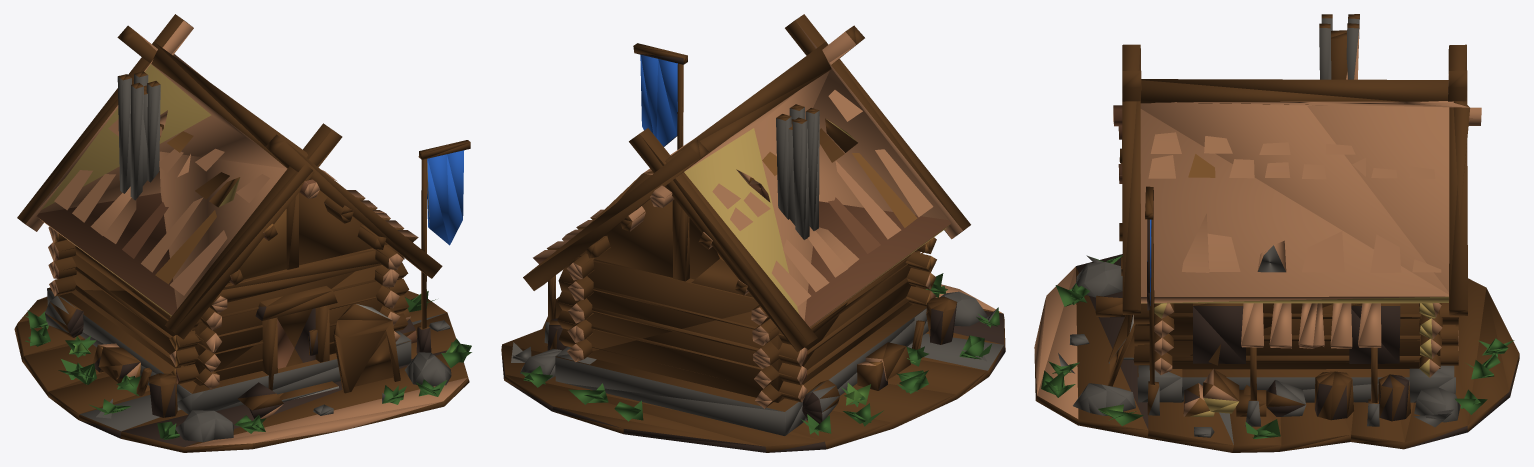
Rendered from building.warden_lodge.glb.
The picture shows the model from 3 angles, left to right: view 1: azimuth 30°, elevation 25°; view 2: azimuth 150°, elevation 25°; view 3: azimuth 270°, elevation 25°; orthographic projection. The views are drawn at different scales.
Visible parts, largest first — view 1: asset; view 2: asset; view 3: asset.
Part boxes in pixels (x1=…): asset: x1=14, y1=14, x2=471, y2=452; asset: x1=501, y1=14, x2=1005, y2=452; asset: x1=1034, y1=14, x2=1519, y2=452.
Bounding box in the file's own units: 2.9 × 1.94 × 2.9.
